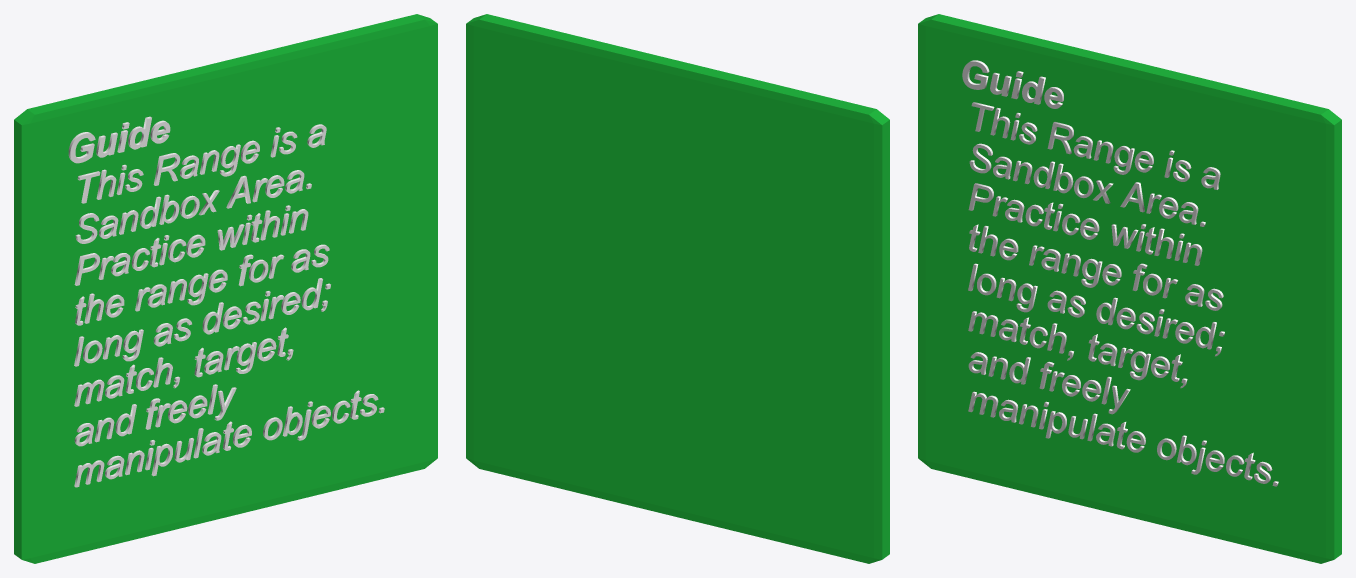
The model's file is TR_GuideBoard.fbx.
The picture shows the model from 3 angles, left to right: view 1: azimuth 30°, elevation 25°; view 2: azimuth 150°, elevation 25°; view 3: azimuth 330°, elevation 25°; orthographic projection.
Visible parts, largest first — view 1: Guide_Board; view 2: Guide_Board; view 3: Guide_Board.
Boxes of the visible parts, box(x1,y1,x2,y2) form: Guide_Board: box(14, 14, 437, 563); Guide_Board: box(466, 14, 889, 563); Guide_Board: box(918, 14, 1341, 563).
Bounding box in the file's own units: 1112 × 1147 × 47.03.
